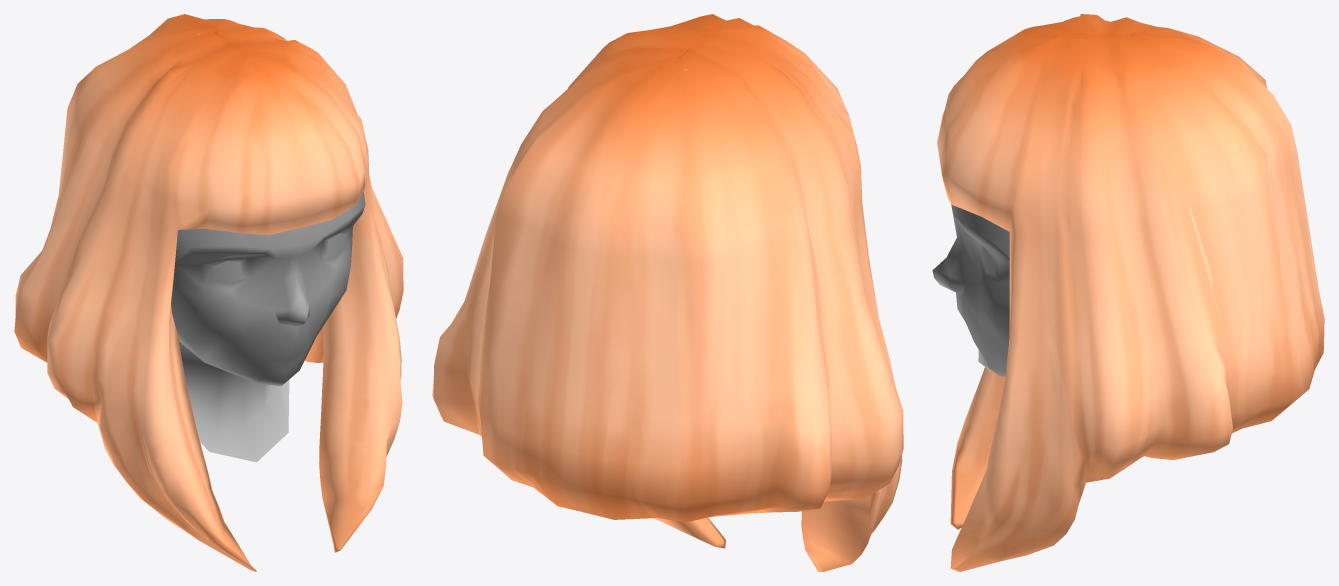
The model's file is doki-aurora-bob.glb.
3 views of the same model, side by side, from view 1: azimuth 30°, elevation 25°; view 2: azimuth 150°, elevation 25°; view 3: azimuth 270°, elevation 25° (orthographic). The views are drawn at different scales.
Visible parts, largest first — view 1: AuroraBob, Head_BaseMesh; view 2: AuroraBob; view 3: AuroraBob, Head_BaseMesh.
Part boxes in pixels (x1,y1,x2,y2): AuroraBob: (14, 14, 403, 571); Head_BaseMesh: (171, 191, 365, 462); AuroraBob: (432, 14, 903, 571); AuroraBob: (937, 14, 1324, 571); Head_BaseMesh: (932, 204, 1009, 376).
Bounding box in the file's own units: 0.8044 × 1.04 × 0.7175.
2 materials, 2 textured.
